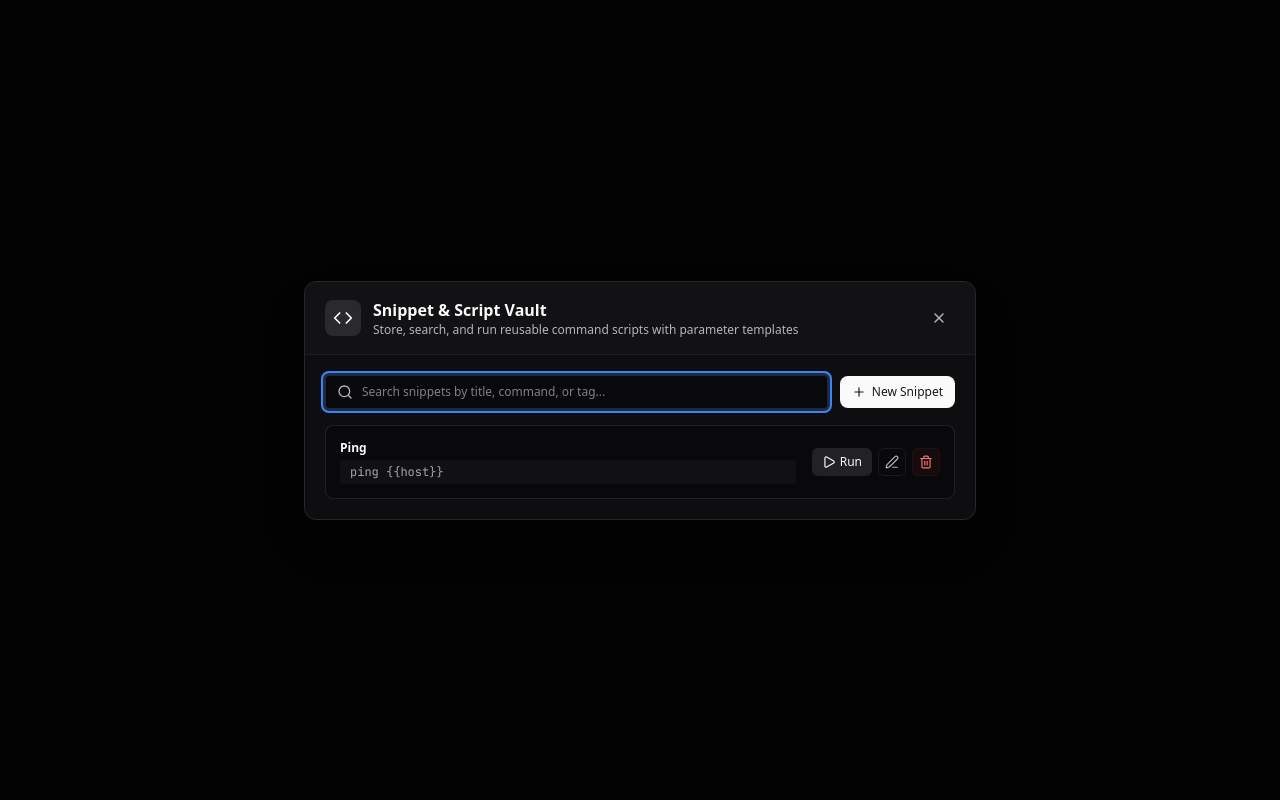
Test: SnippetVaultDialog — multi-variable run form › focuses the sole field when a snippet has exactly one variable
Click the button titled "Execute snippet" at (842, 462), box [812, 448, 872, 476]
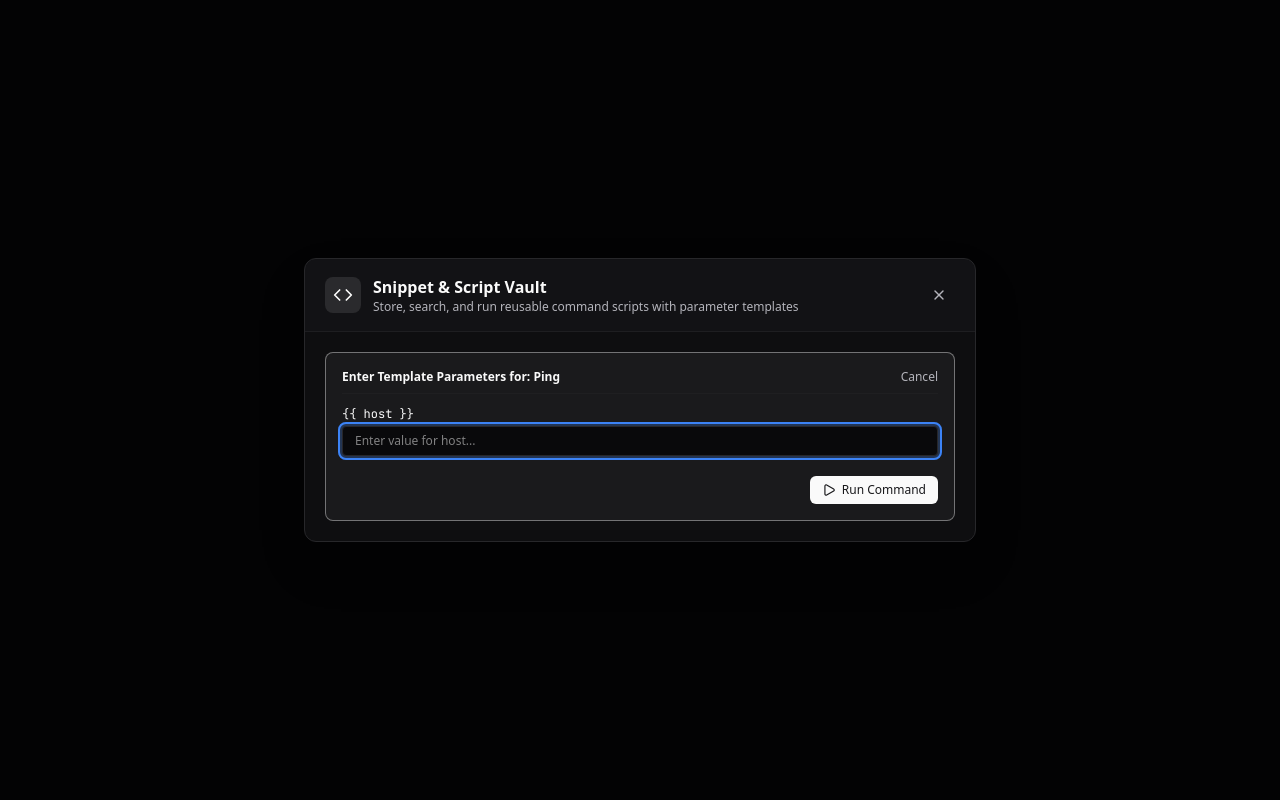
Result: the field labelled "{{ host }}" is shown at [342, 426, 938, 456]
